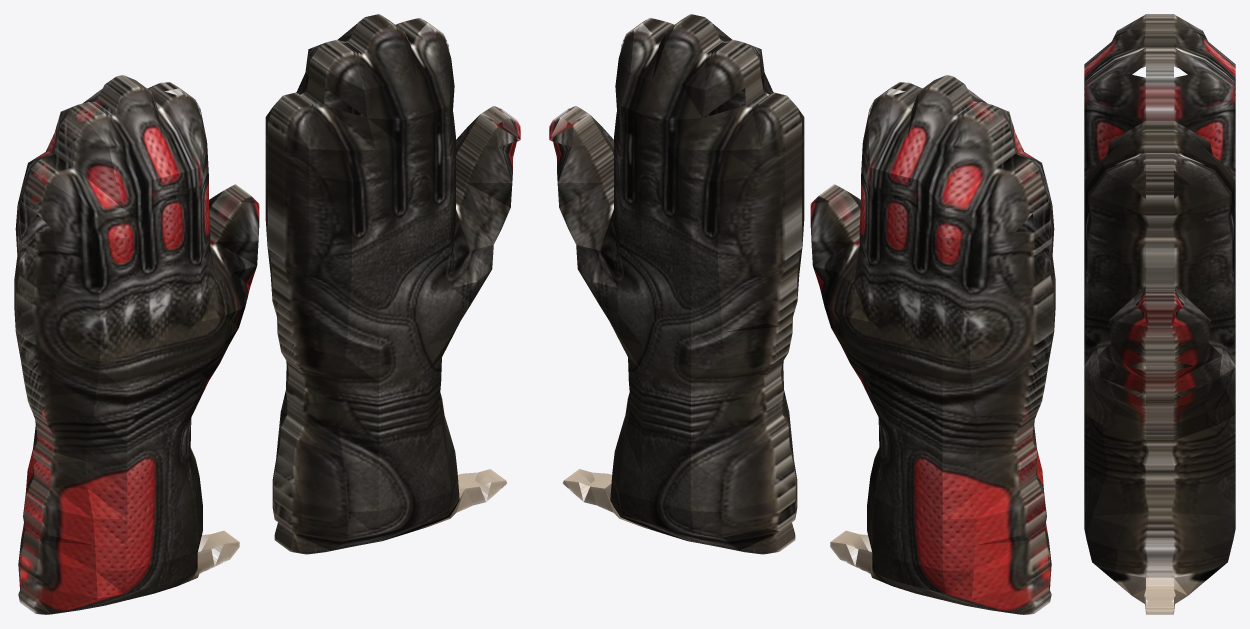
File: rev-it-circuit-sport-glove-101.glb
The picture shows the model from 3 angles, left to right: view 1: azimuth 30°, elevation 25°; view 2: azimuth 150°, elevation 25°; view 3: azimuth 270°, elevation 25°; orthographic projection. The views are drawn at different scales.
Parts seen in each view (by area): view 1: world; view 2: world; view 3: world.
Part boxes in pixels (x1,y1,x2,y2): world: (14,14,520,614); world: (549,14,1055,614); world: (1084,14,1235,614).
Size of the model in its own units: 0.9967 by 1 by 0.3.
Materials: 1 (1 with a texture image).
